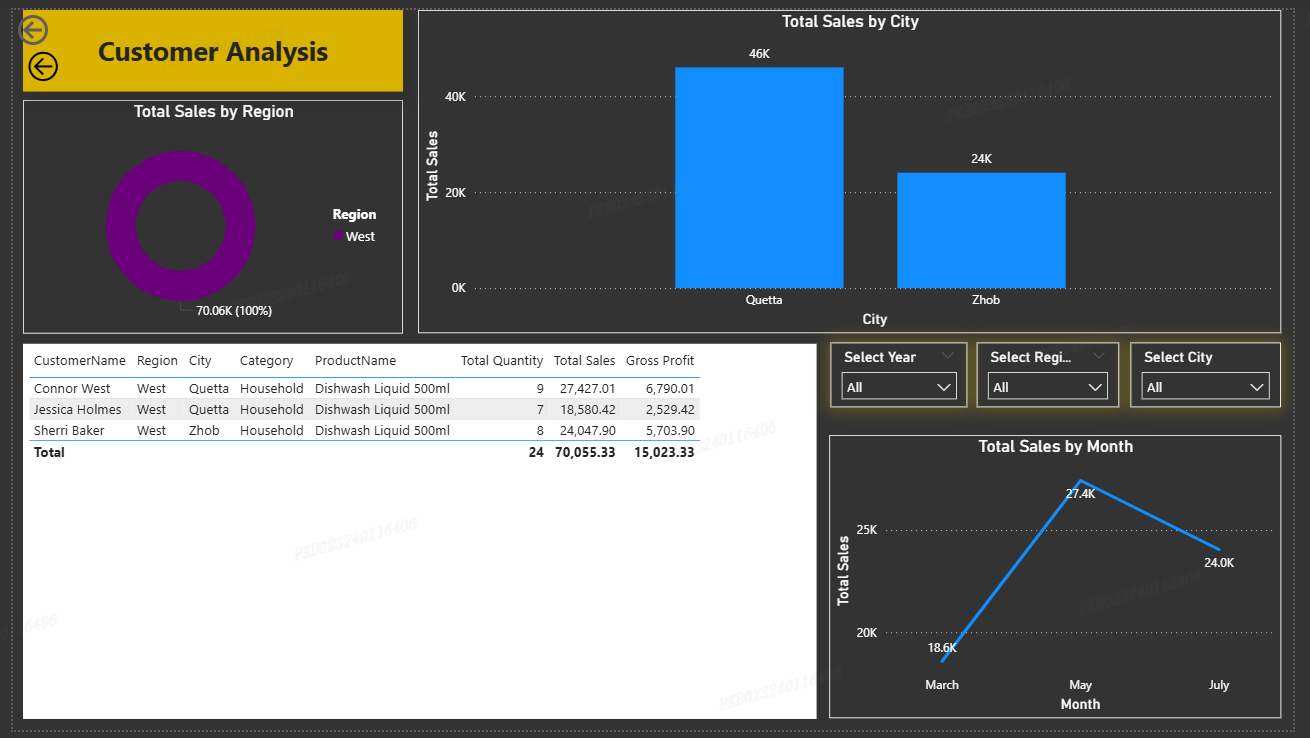

The page's visual inventory and layout, read from the dashboard file:
{"tool":"powerbi","page":{"name":"Customer Drill Through","canvas":[1280,720],"ordinal":6},"visuals":[{"type":"donutChart","fields":{"Category":["Customers.Region"],"Y":["Measures_Table.Total Sales"]},"box":[10,90,380,233.3],"z":0},{"type":"clusteredColumnChart","fields":{"Category":["Customers.City"],"Y":["Measures_Table.Total Sales"]},"box":[405,0,863.3,323.3],"z":1000},{"type":"tableEx","fields":{"Values":["Customers.CustomerName","Customers.Region","Customers.City","Products.Category","Products.ProductName","Measures_Table.Total Quantity","Measures_Table.Total Sales","Measures_Table.Gross Profit"]},"box":[10,333.3,793.3,375],"z":2000},{"type":"lineChart","fields":{"Category":["Sales.SalesDate.Variation.Date Hierarchy.Month"],"Y":["Measures_Table.Total Sales"]},"box":[816.7,425,451.7,283.3],"z":3000},{"type":"slicer","fields":{"Values":["Sales.SalesDate.Variation.Date Hierarchy.Year"]},"box":[817,333,137,65],"z":4000},{"type":"slicer","fields":{"Values":["Customers.City"]},"box":[1118,333,150,65],"z":5000},{"type":"slicer","fields":{"Values":["Customers.Region"]},"box":[964,333,142,65],"z":6000},{"type":"textbox","box":[10,0,380,81.2],"z":7000},{"type":"actionButton","box":[0,0,100,40],"z":8000},{"type":"actionButton","box":[9.8,36.7,100.3,40.4],"z":8001}]}

Visuals, with their boxes in screenshot pixels (x1, y1, x2, y2), scaled from the page's 1280x720 canvas onto the 1310x738 screenshot:
donutChart - Customers.Region x Measures_Table.Total Sales: crop(10, 92, 399, 331)
clusteredColumnChart - Customers.City x Measures_Table.Total Sales: crop(414, 0, 1298, 331)
tableEx - Customers.CustomerName x Customers.Region: crop(10, 342, 822, 726)
lineChart - Sales.SalesDate.Variation.Date Hierarchy.Month x Measures_Table.Total Sales: crop(836, 436, 1298, 726)
slicer - Sales.SalesDate.Variation.Date Hierarchy.Year: crop(836, 341, 976, 408)
slicer - Customers.City: crop(1144, 341, 1298, 408)
slicer - Customers.Region: crop(987, 341, 1132, 408)
textbox: crop(10, 0, 399, 83)
actionButton: crop(0, 0, 102, 41)
actionButton: crop(10, 38, 113, 79)
